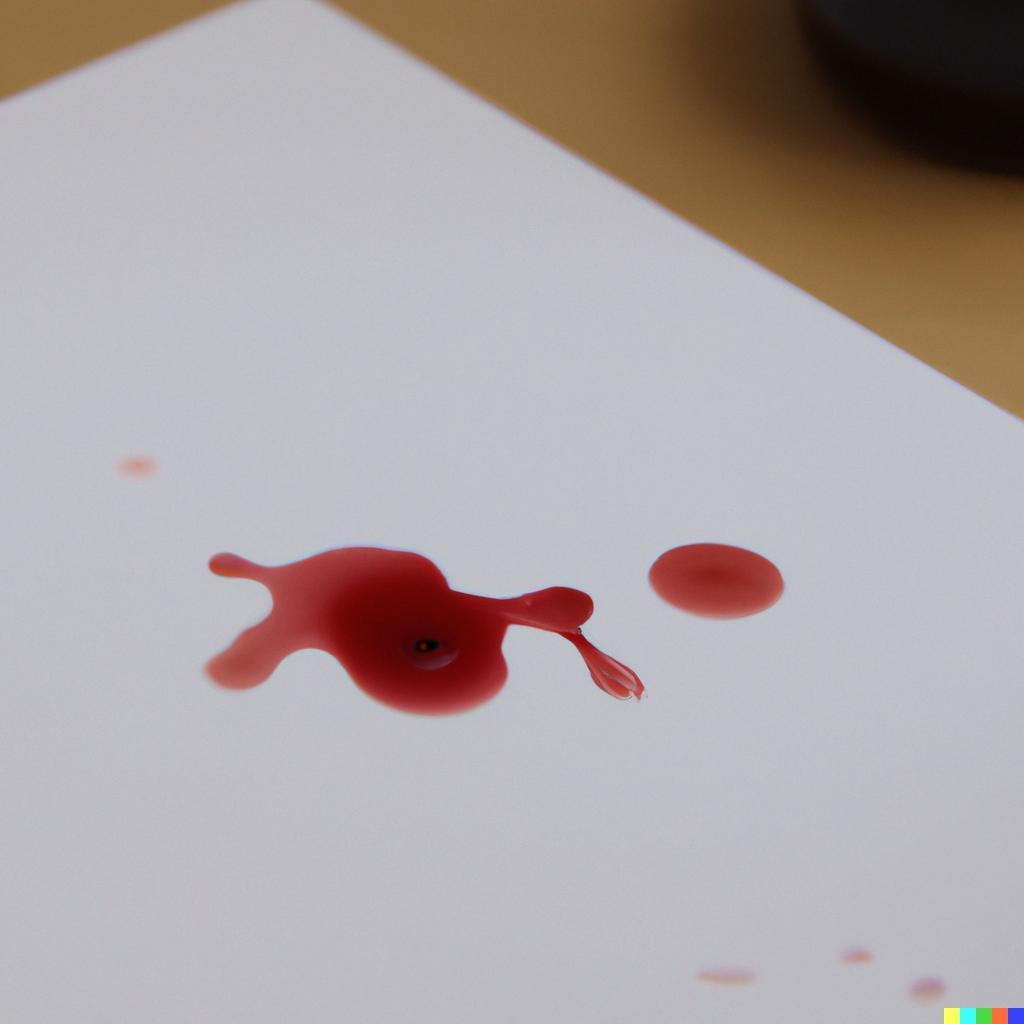Bloodstain-Detection: (264, 546, 518, 713), (654, 546, 784, 616)
